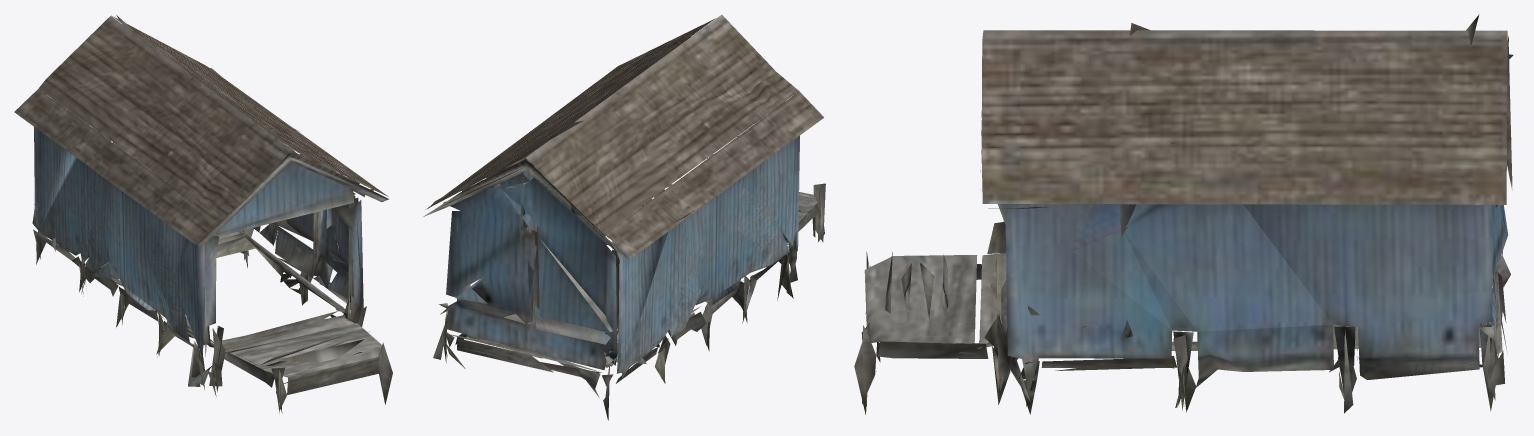
The model's file is kueste_bootshaus_lo.glb.
The picture shows the model from 3 angles, left to right: view 1: azimuth 30°, elevation 25°; view 2: azimuth 150°, elevation 25°; view 3: azimuth 270°, elevation 25°; orthographic projection. The views are drawn at different scales.
Parts seen in each view (by area): view 1: Prop; view 2: Prop; view 3: Prop.
Boxes of the visible parts, bbox=[...] form: Prop: bbox=[14, 15, 392, 413]; Prop: bbox=[423, 14, 825, 420]; Prop: bbox=[854, 14, 1513, 414].
Size of the model in its own units: 0.8323 by 1.03 by 1.71.
Materials: 1 (1 with a texture image).
